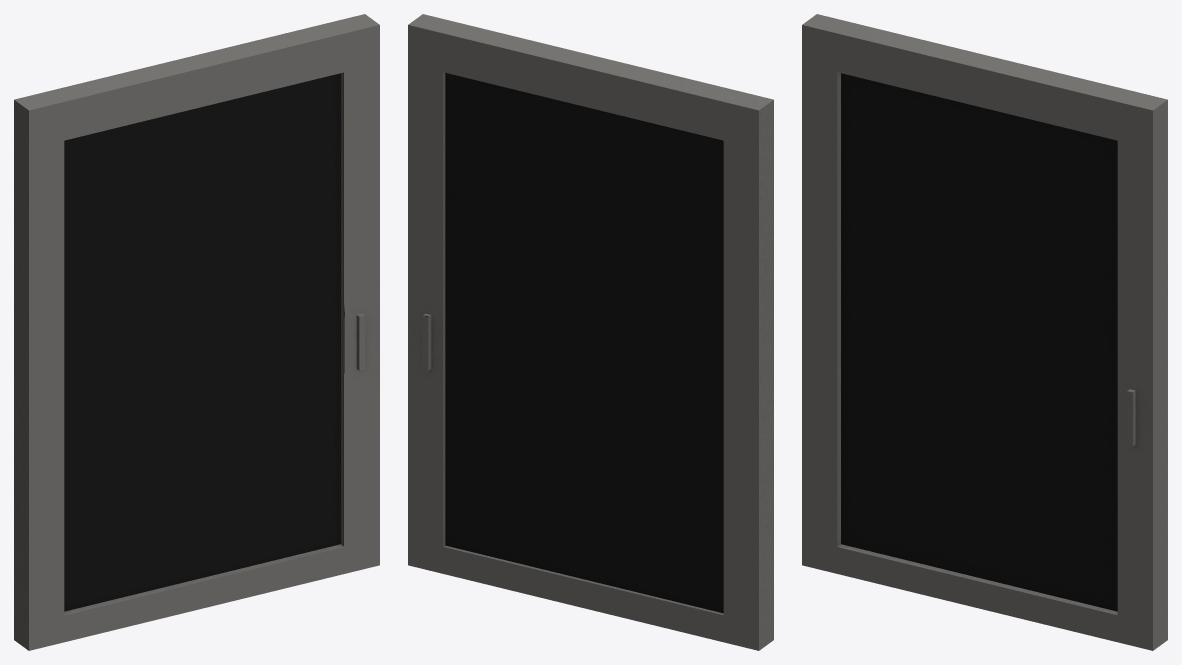
Rendered from window_1_engine.obj.
The picture shows the model from 3 angles, left to right: view 1: azimuth 30°, elevation 25°; view 2: azimuth 150°, elevation 25°; view 3: azimuth 330°, elevation 25°; orthographic projection.
Visible parts, largest first — view 1: Window_1; view 2: Window_1; view 3: Window_1.
Boxes of the visible parts, bbox=[...] form: Window_1: bbox=[14, 14, 379, 650]; Window_1: bbox=[408, 14, 773, 650]; Window_1: bbox=[802, 14, 1167, 650].
Size of the model in its own units: 13.59 by 20 by 1.39.
1 material, 1 textured.
